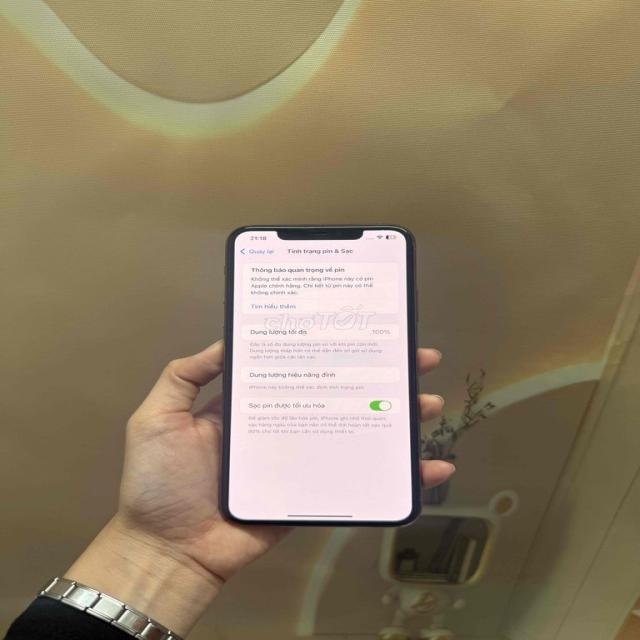gen_11: (220, 224, 421, 526), (278, 226, 362, 240)
